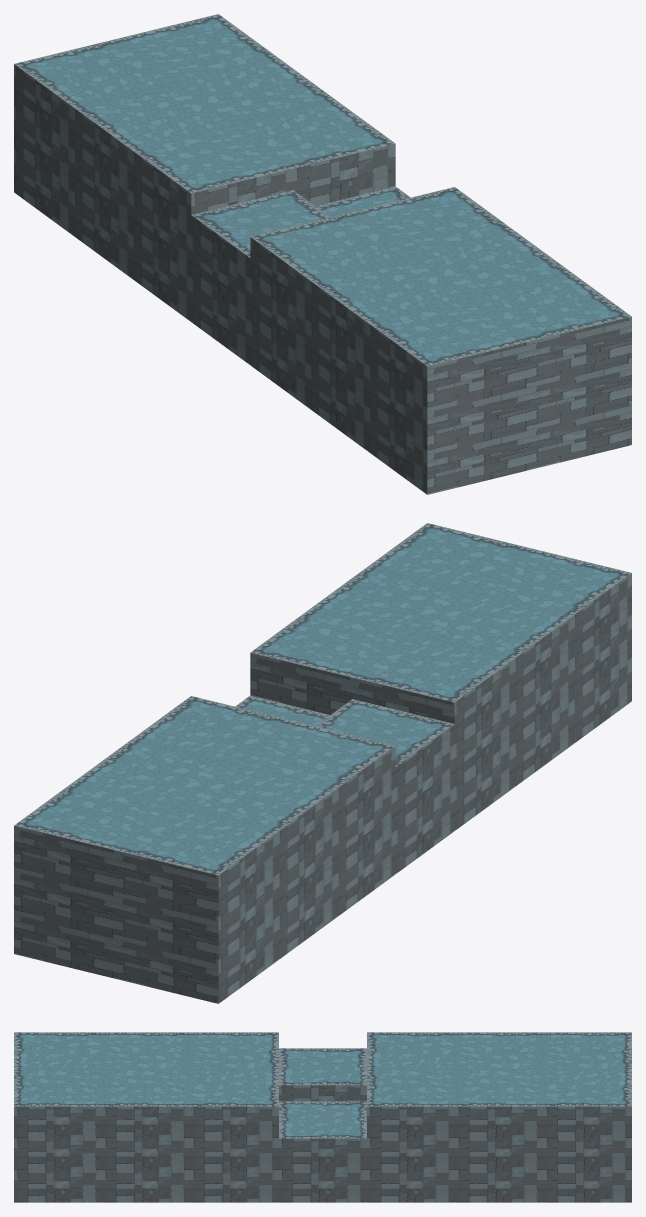
File: Section2.fbx
3 renders of one model, top to bottom at view 1: azimuth 30°, elevation 25°; view 2: azimuth 150°, elevation 25°; view 3: azimuth 270°, elevation 25°, orthographic. The views are drawn at different scales.
Parts seen in each view (by area): view 1: Section2; view 2: Section2; view 3: Section2.
Boxes of the visible parts, x1,y1,x2,y2 form: Section2: (14,14,631,494); Section2: (14,523,631,1003); Section2: (14,1032,631,1202).
Size of the model in its own units: 2000 by 1200 by 7000.
Materials: 1 (1 with a texture image).
